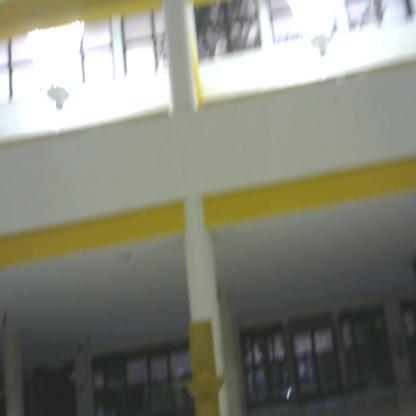pole: (173, 314, 232, 416)
